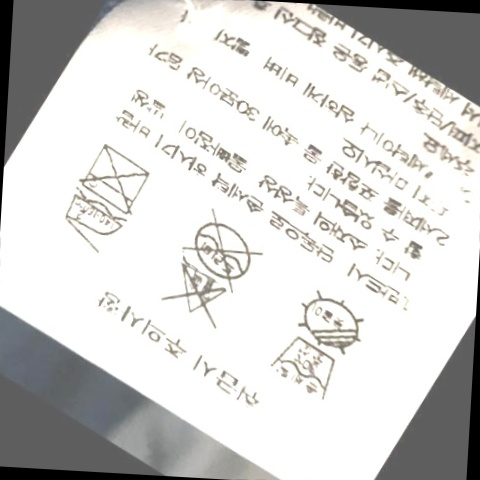DN_dry_clean: (189, 212, 265, 282)
DN_wash: (80, 146, 160, 207)
hand_wash: (267, 339, 344, 406)
iron_medium: (58, 195, 129, 251)
line_dry_in_shade: (295, 286, 374, 357)
non_chlorine_bleach: (167, 265, 239, 326)
